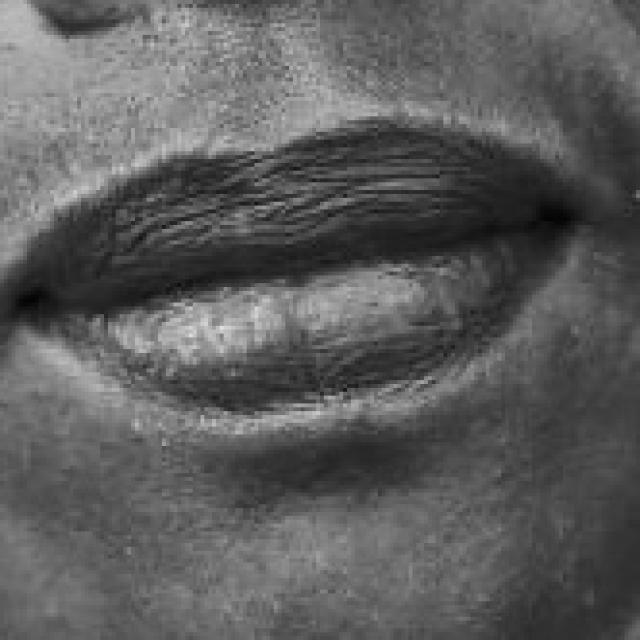closed-mouth: (9, 115, 590, 419)
